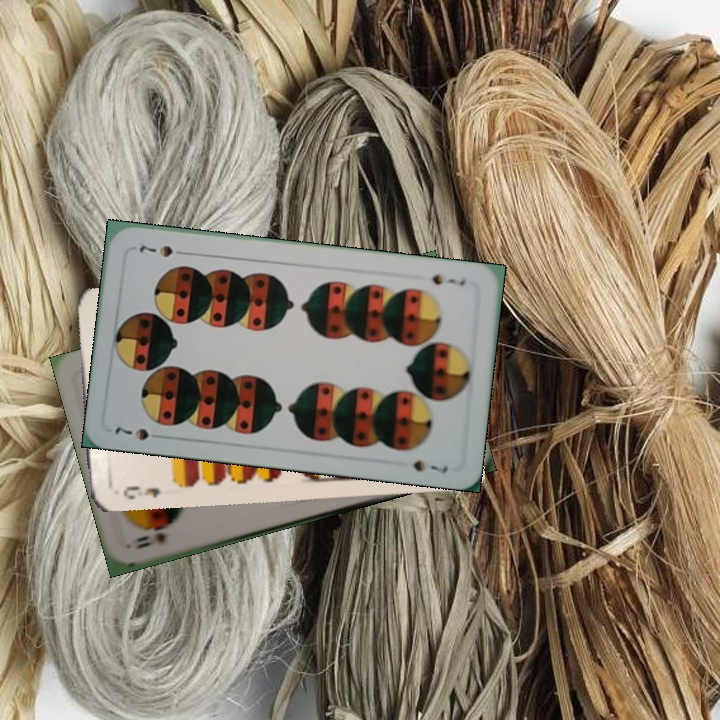E9: (119, 481, 163, 502)
S7: (110, 423, 152, 443), (427, 270, 468, 289)
SO: (129, 528, 170, 552)
